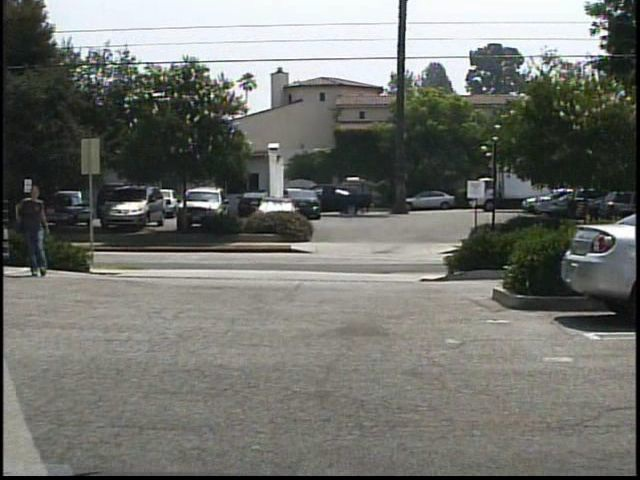person: (14, 184, 57, 278)
